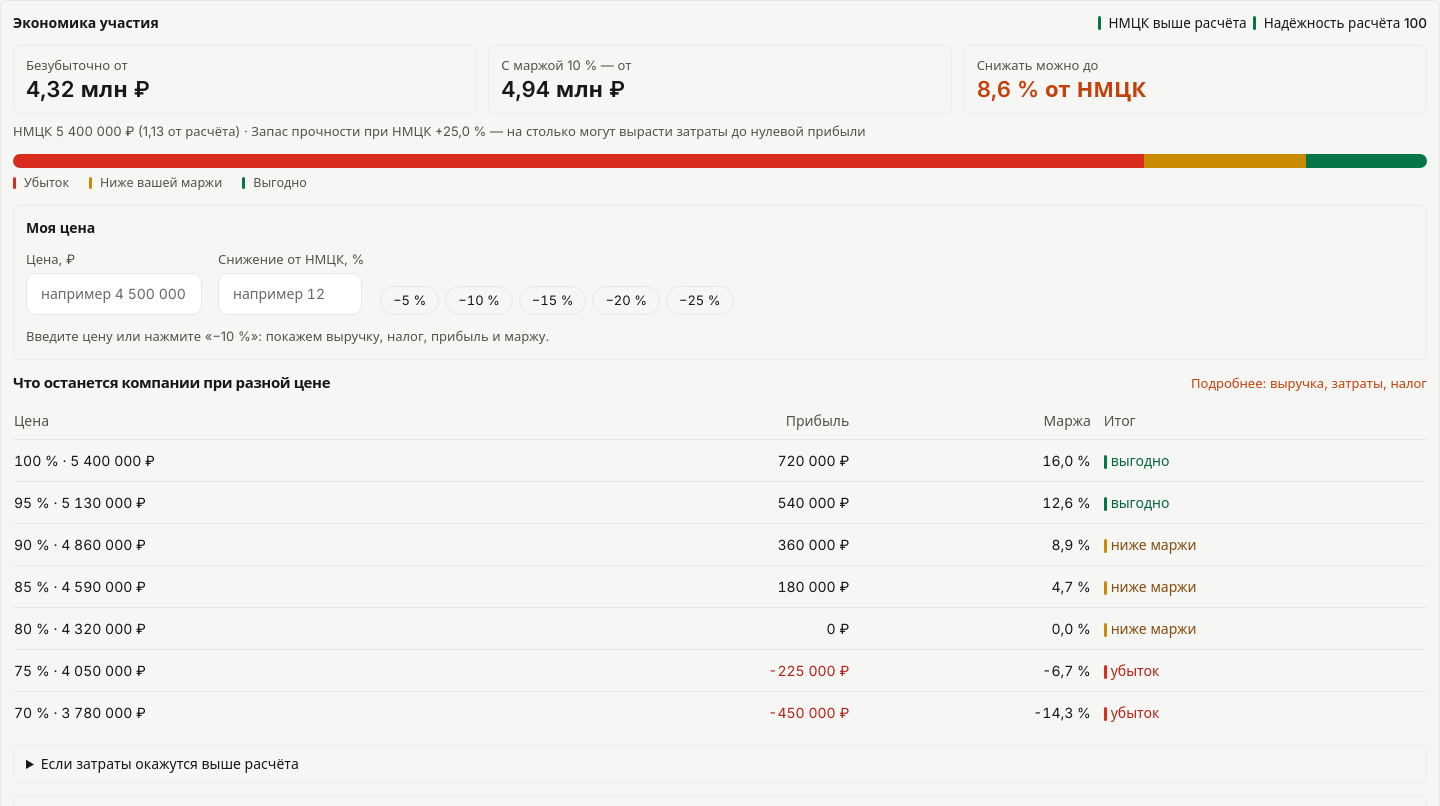
Test case: «Моя цена» › −5 %: одна яркая строка «При … (−5 %): прибыль … · маржа … — выгодно», детали мельче
Click the button "−5 %".
click(410, 300)  # box top-left (380, 286), bottom-right (439, 315)
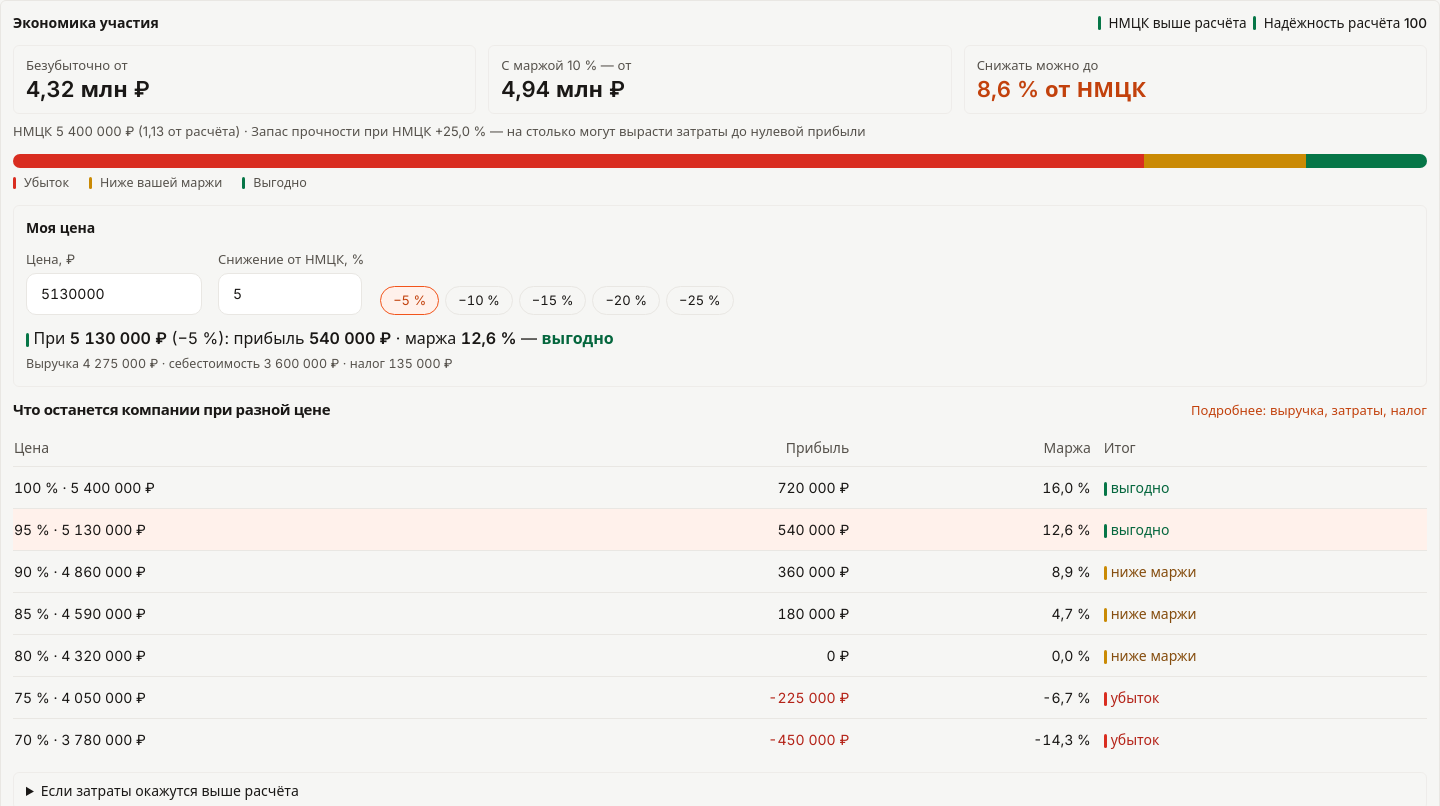
Expected: the text with test id "my-price-margin" reads "12,6 %", top-left (461, 328), bottom-right (516, 348)
Expected: the text with test id "my-price-verdict" reads "выгодно", top-left (542, 328), bottom-right (614, 348)
